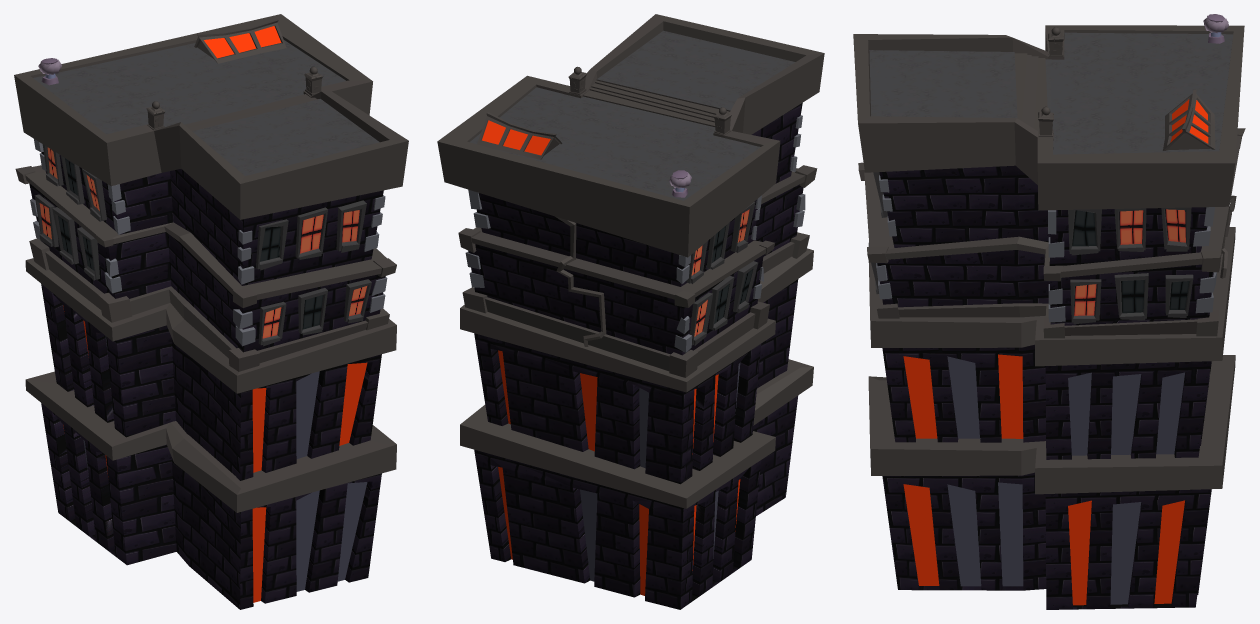
Rendered from Hecks_Kitchen_Tile_TShape_01.fbx.
3 views of the same model, side by side, from view 1: azimuth 30°, elevation 25°; view 2: azimuth 150°, elevation 25°; view 3: azimuth 270°, elevation 25° (orthographic). The views are drawn at different scales.
Visible parts, largest first — view 1: Hecks_Kitchen_Tile_TShape_01; view 2: Hecks_Kitchen_Tile_TShape_01; view 3: Hecks_Kitchen_Tile_TShape_01.
Part boxes in pixels (x1,y1,x2,y2): Hecks_Kitchen_Tile_TShape_01: (14, 14, 408, 609); Hecks_Kitchen_Tile_TShape_01: (437, 14, 824, 609); Hecks_Kitchen_Tile_TShape_01: (853, 25, 1245, 609).
Bounding box in the file's own units: 22.61 × 37.55 × 27.23.
Materials: 8 (4 with a texture image).
